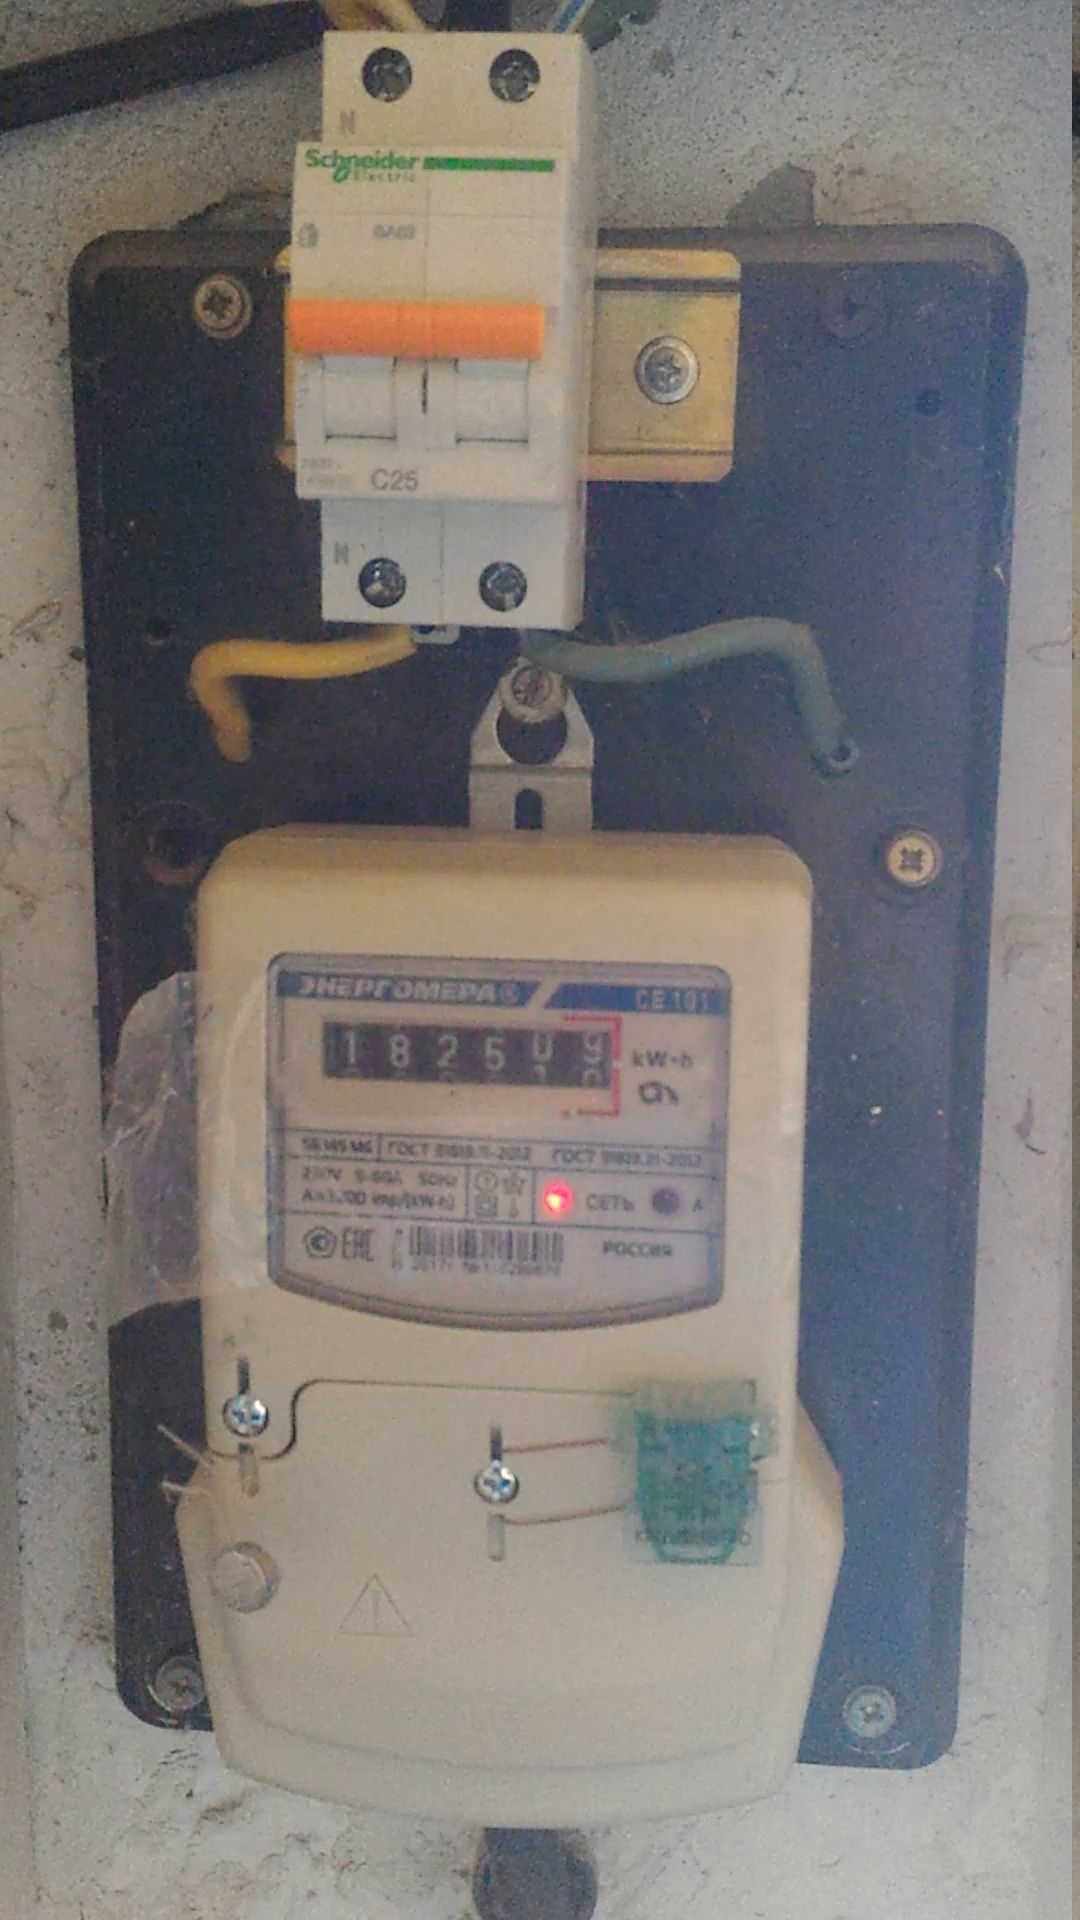counter: (191, 865, 802, 1812)
counter_screen: (319, 1018, 618, 1095)
